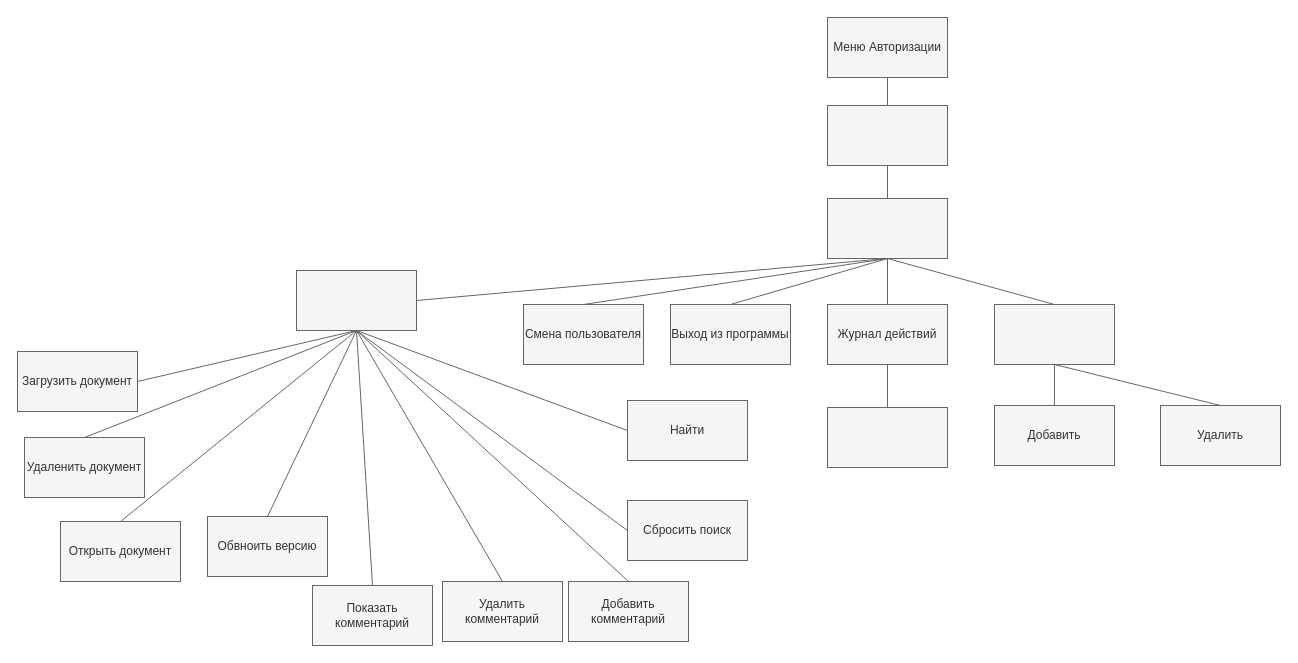
The diagram is 1298 pixels wide and 663 high, and some of its shapes have lost their labels. The centre of each missing label's shape, as x and y in pixels:
"Вход" belongs at [887,135].
"Главное меню" belongs at [887,228].
"Документы" belongs at [356,300].
"Очистить" belongs at [887,437].
"Пользователи" belongs at [1054,334].
